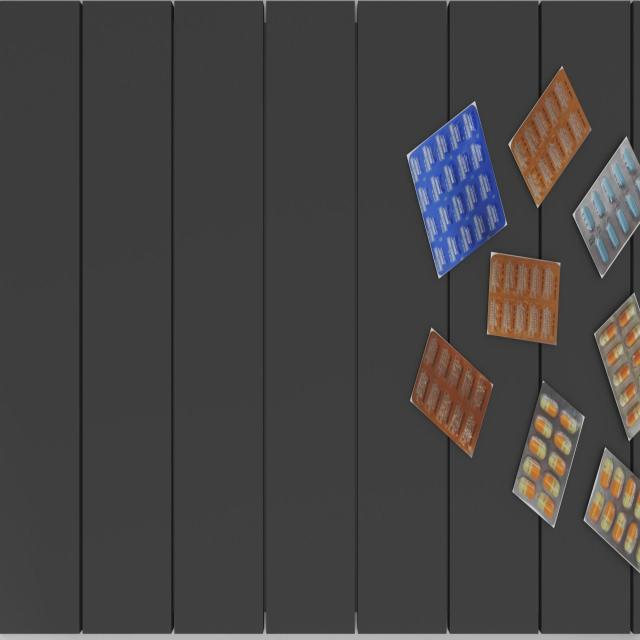blister: (400, 89, 510, 287), (503, 63, 593, 210), (406, 321, 496, 462), (510, 381, 586, 534), (573, 135, 639, 277), (483, 245, 565, 353), (580, 443, 640, 583), (588, 289, 639, 440)
